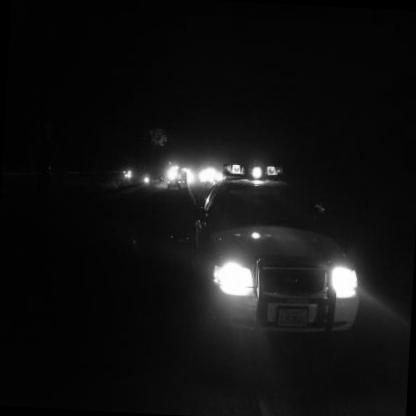car: (170, 148, 382, 351)
